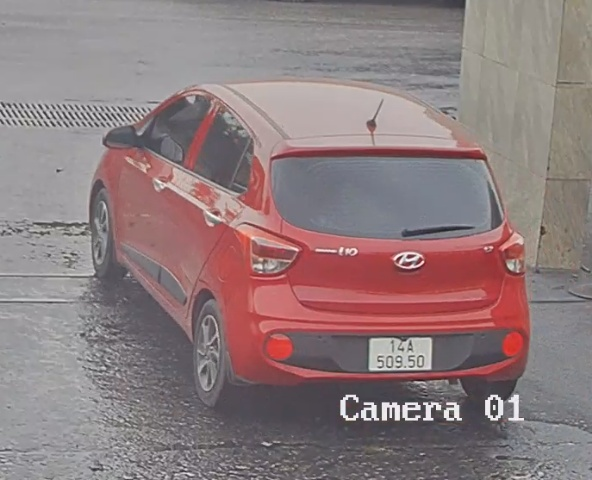vehicle plate: (364, 331, 438, 373)
